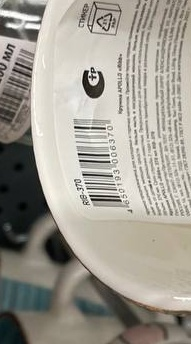1d: (73, 117, 127, 209)
